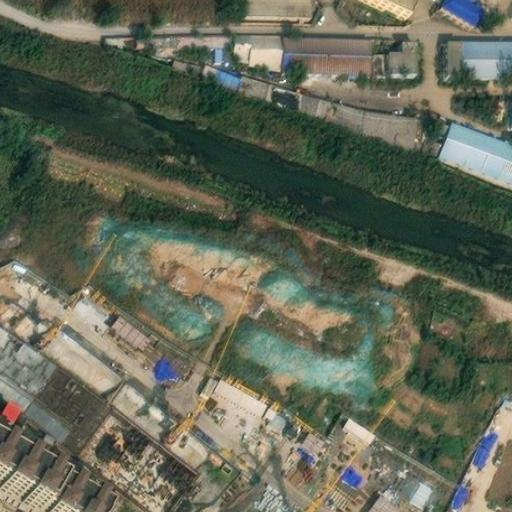building: (44, 329, 206, 456), (0, 433, 109, 512), (102, 423, 189, 500), (232, 28, 374, 66), (233, 69, 336, 115), (442, 113, 512, 175), (331, 97, 425, 140), (200, 371, 271, 423), (113, 25, 233, 54), (445, 37, 512, 77), (322, 410, 374, 459), (103, 311, 153, 357), (170, 53, 237, 87), (67, 292, 114, 334), (393, 471, 436, 512), (373, 31, 418, 67), (465, 427, 501, 472), (289, 428, 329, 467), (257, 403, 295, 439), (147, 352, 184, 388), (334, 462, 367, 494), (443, 482, 471, 512), (245, 0, 310, 11), (367, 493, 403, 512), (0, 400, 22, 428)
